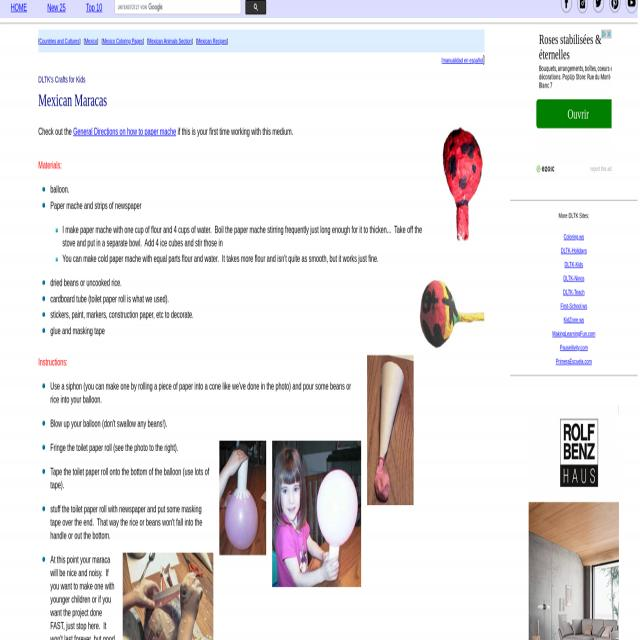button: (272, 440, 361, 587), (528, 500, 618, 640), (123, 551, 213, 640), (367, 356, 413, 506), (219, 441, 266, 556), (441, 126, 485, 247), (419, 277, 485, 351), (560, 419, 598, 488), (536, 98, 612, 128), (245, 0, 266, 15), (560, 0, 572, 14), (592, 0, 604, 14), (609, 0, 621, 14), (625, 0, 637, 13), (577, 0, 588, 14), (536, 166, 555, 174)
field: (115, 0, 240, 15)
